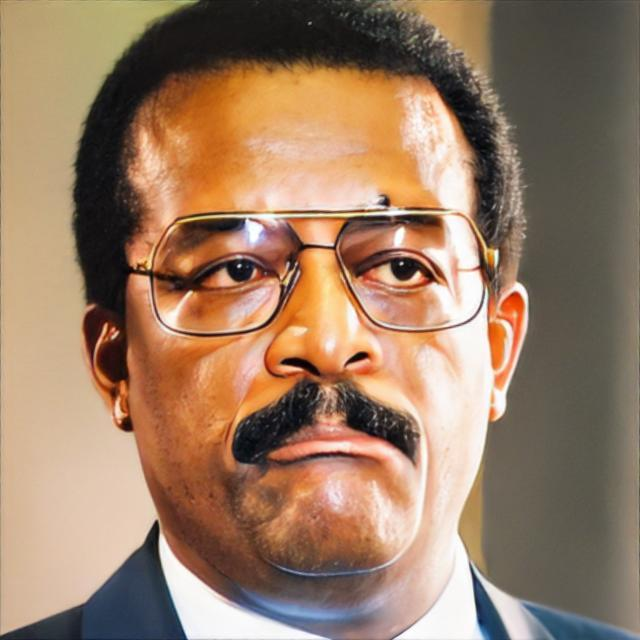neutral: (116, 64, 492, 582)
